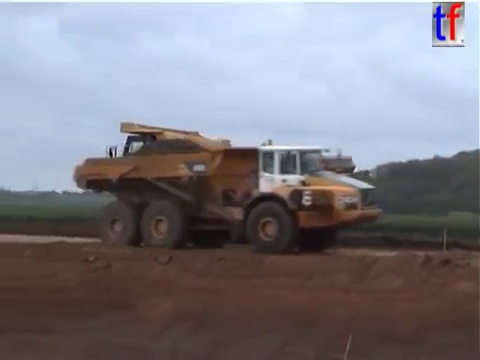truck: (70, 136, 387, 254), (104, 119, 372, 252)
